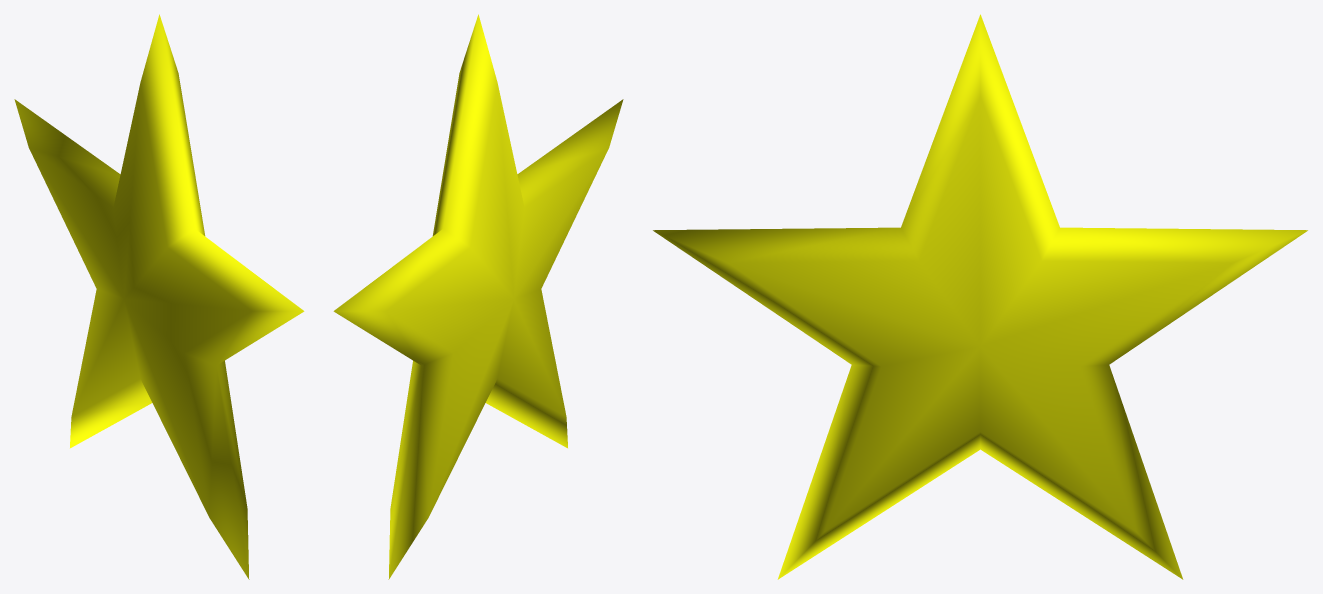
The model's file is star.FBX.
3 views of the same model, side by side, from view 1: azimuth 30°, elevation 25°; view 2: azimuth 150°, elevation 25°; view 3: azimuth 270°, elevation 25° (orthographic). The views are drawn at different scales.
Visible parts, largest first — view 1: Star; view 2: Star; view 3: Star.
Part boxes in pixels (left/top/right/bottom): Star: left=14, top=14, right=304, bottom=579; Star: left=333, top=14, right=623, bottom=579; Star: left=653, top=14, right=1307, bottom=579.
Size of the model in its own units: 12.6 by 84.77 by 89.13.
